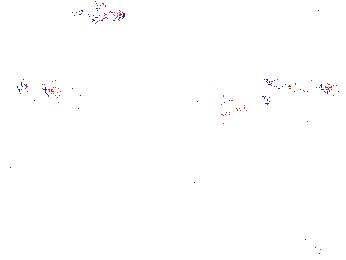X-ray fish: (55, 78, 106, 114), (77, 213, 124, 250)
glassfish: (220, 103, 324, 171)
red belly glassfish: (72, 4, 128, 24)
redtail glassfish: (260, 70, 335, 100), (205, 92, 273, 124), (14, 74, 59, 105)
